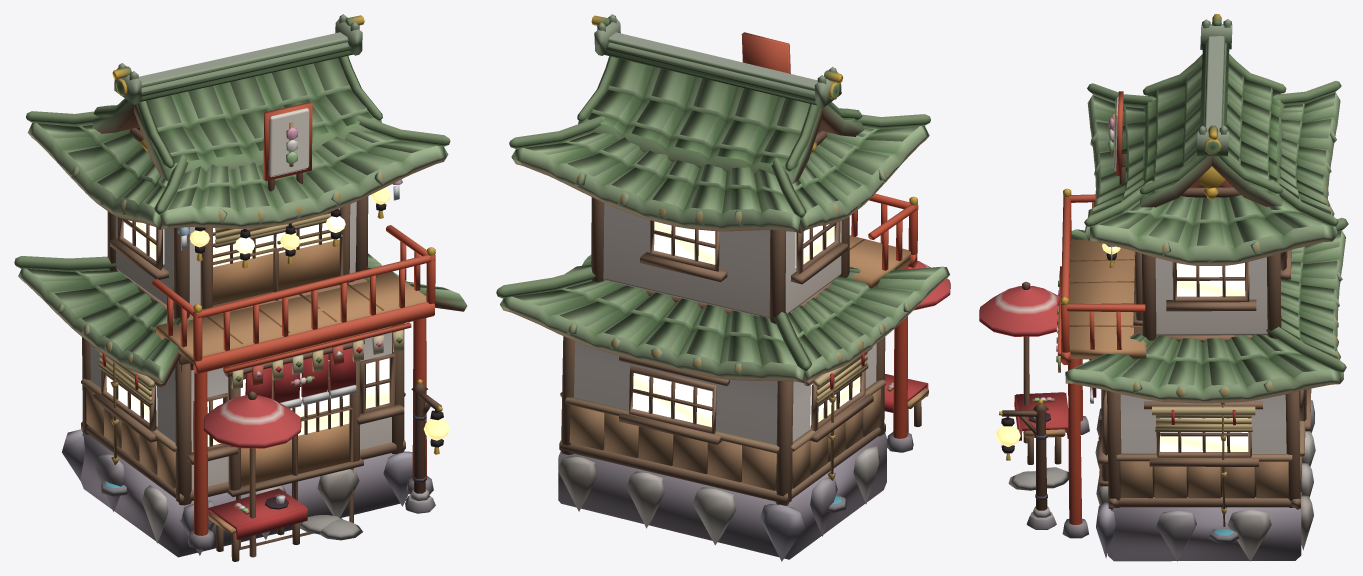
Rendered from shop-3-v4.glb.
The picture shows the model from 3 angles, left to right: view 1: azimuth 30°, elevation 25°; view 2: azimuth 150°, elevation 25°; view 3: azimuth 270°, elevation 25°; orthographic projection. The views are drawn at different scales.
Parts seen in each view (by area): view 1: shop, window_glow; view 2: shop, window_glow; view 3: shop, window_glow.
Boxes of the visible parts, x1,y1,x2,y2 form: shop: (14,14,467,561); window_glow: (106,188,449,446); shop: (496,14,950,561); window_glow: (632,221,860,427); shop: (979,14,1348,561); window_glow: (995,243,1248,451).
Size of the model in its own units: 3.56 by 4.99 by 3.79.
